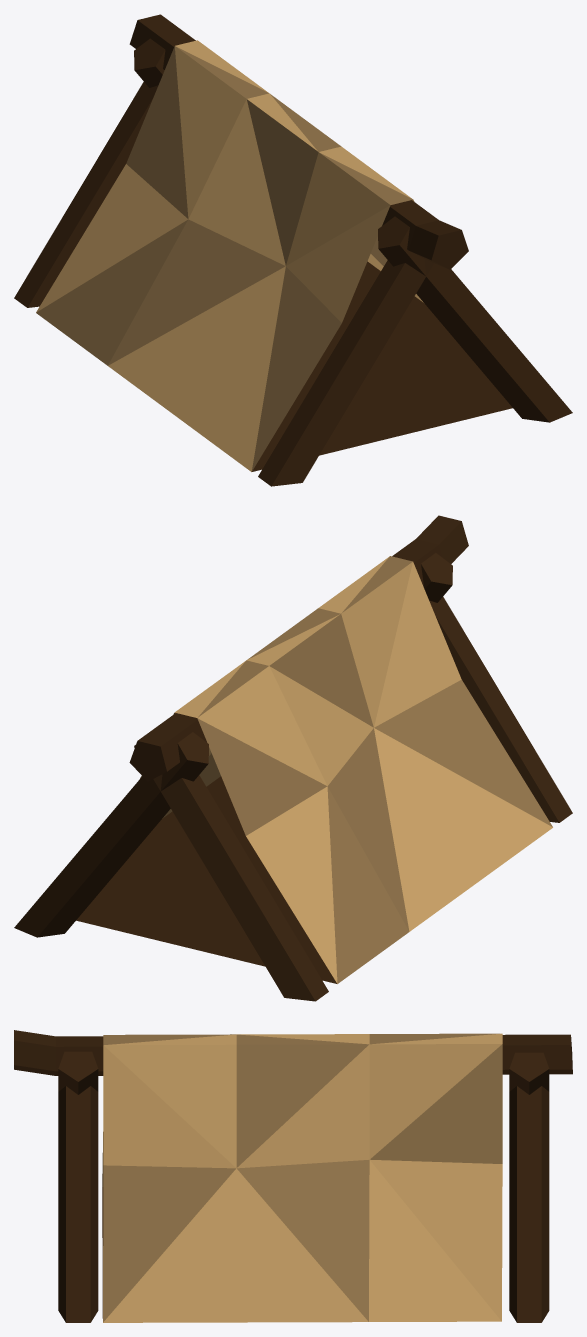
Rendered from Tent_1.fbx.
3 views of the same model, one above another, from view 1: azimuth 30°, elevation 25°; view 2: azimuth 150°, elevation 25°; view 3: azimuth 270°, elevation 25° (orthographic). The views are drawn at different scales.
Visible parts, largest first — view 1: Tent_1; view 2: Tent_1; view 3: Tent_1.
Part boxes in pixels (left/top/right/bottom): Tent_1: left=14, top=14, right=572, bottom=486; Tent_1: left=14, top=515, right=572, bottom=1001; Tent_1: left=14, top=1030, right=572, bottom=1322.
Size of the model in its own units: 256 by 192 by 443.
